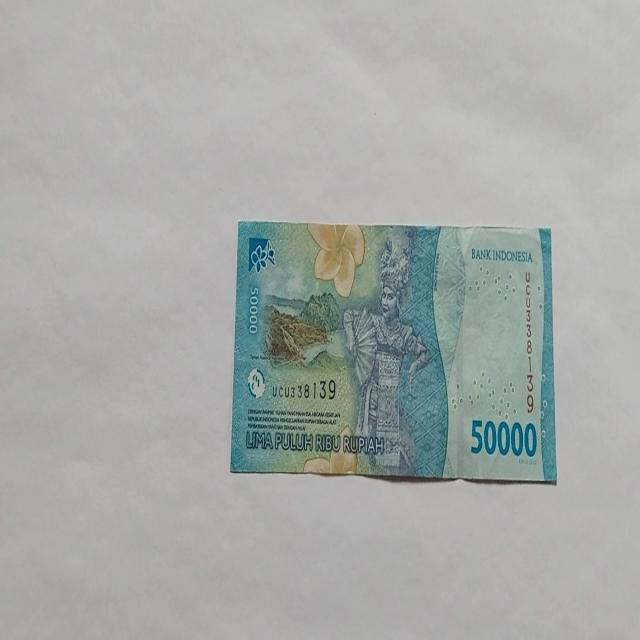lima puluh ribu rupiah: (229, 220, 556, 482), (341, 234, 431, 476)
